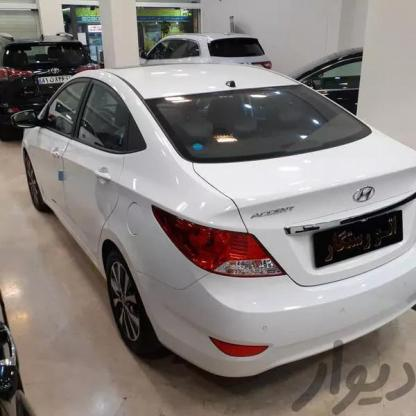Car: (0, 55, 416, 386), (0, 34, 121, 116), (164, 26, 275, 90)
